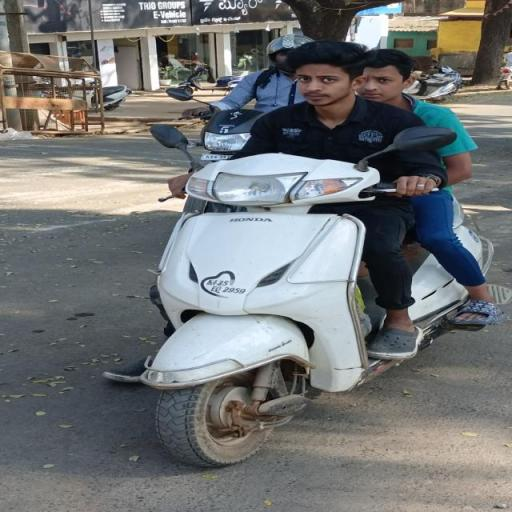bike: (132, 34, 498, 466)
numberplate: (196, 274, 255, 298)
withouthelmet: (291, 38, 356, 104), (361, 49, 413, 101)
